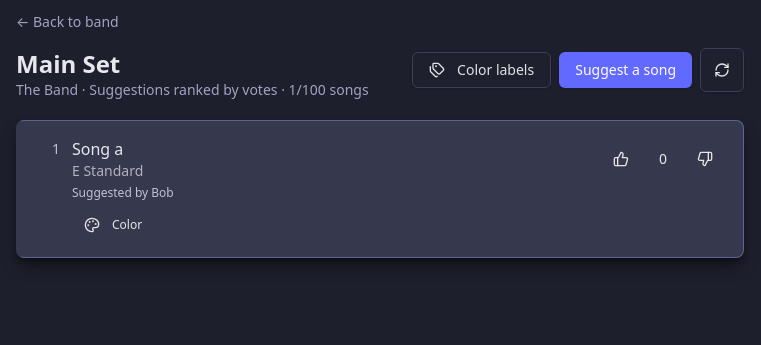
SetListPage › a failed background refresh keeps the songs on screen and says the view may be out of date
expect the text "Song a" is shown: met, box [72,138,123,160]
What coordinates should you click on to do the following:
click the button named "Refresh"
I would click on:
 (722, 70)
Its box is [700,48,744,92].
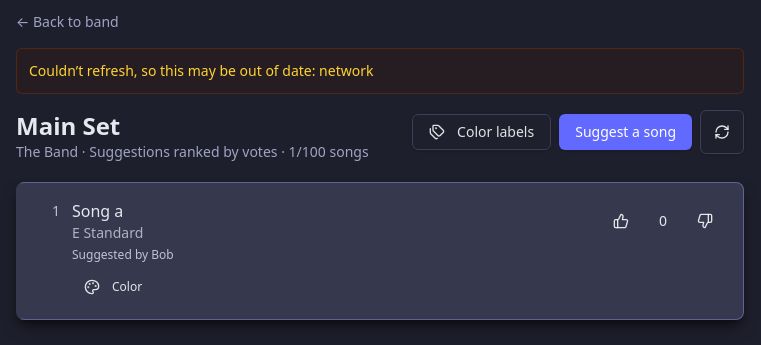
expect the text "Song a" is shown: met, box [72,200,123,222]
expect the text "Couldn’t refresh, so this may be out of date: network" is shown: met, box [16,48,744,94]
